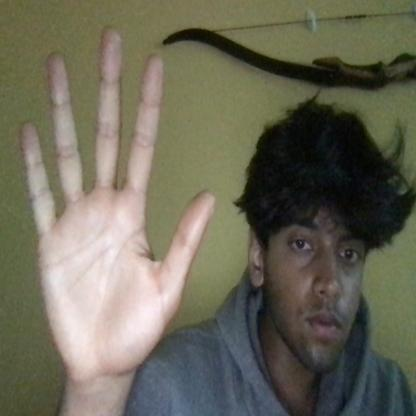palm: (9, 24, 223, 381)
